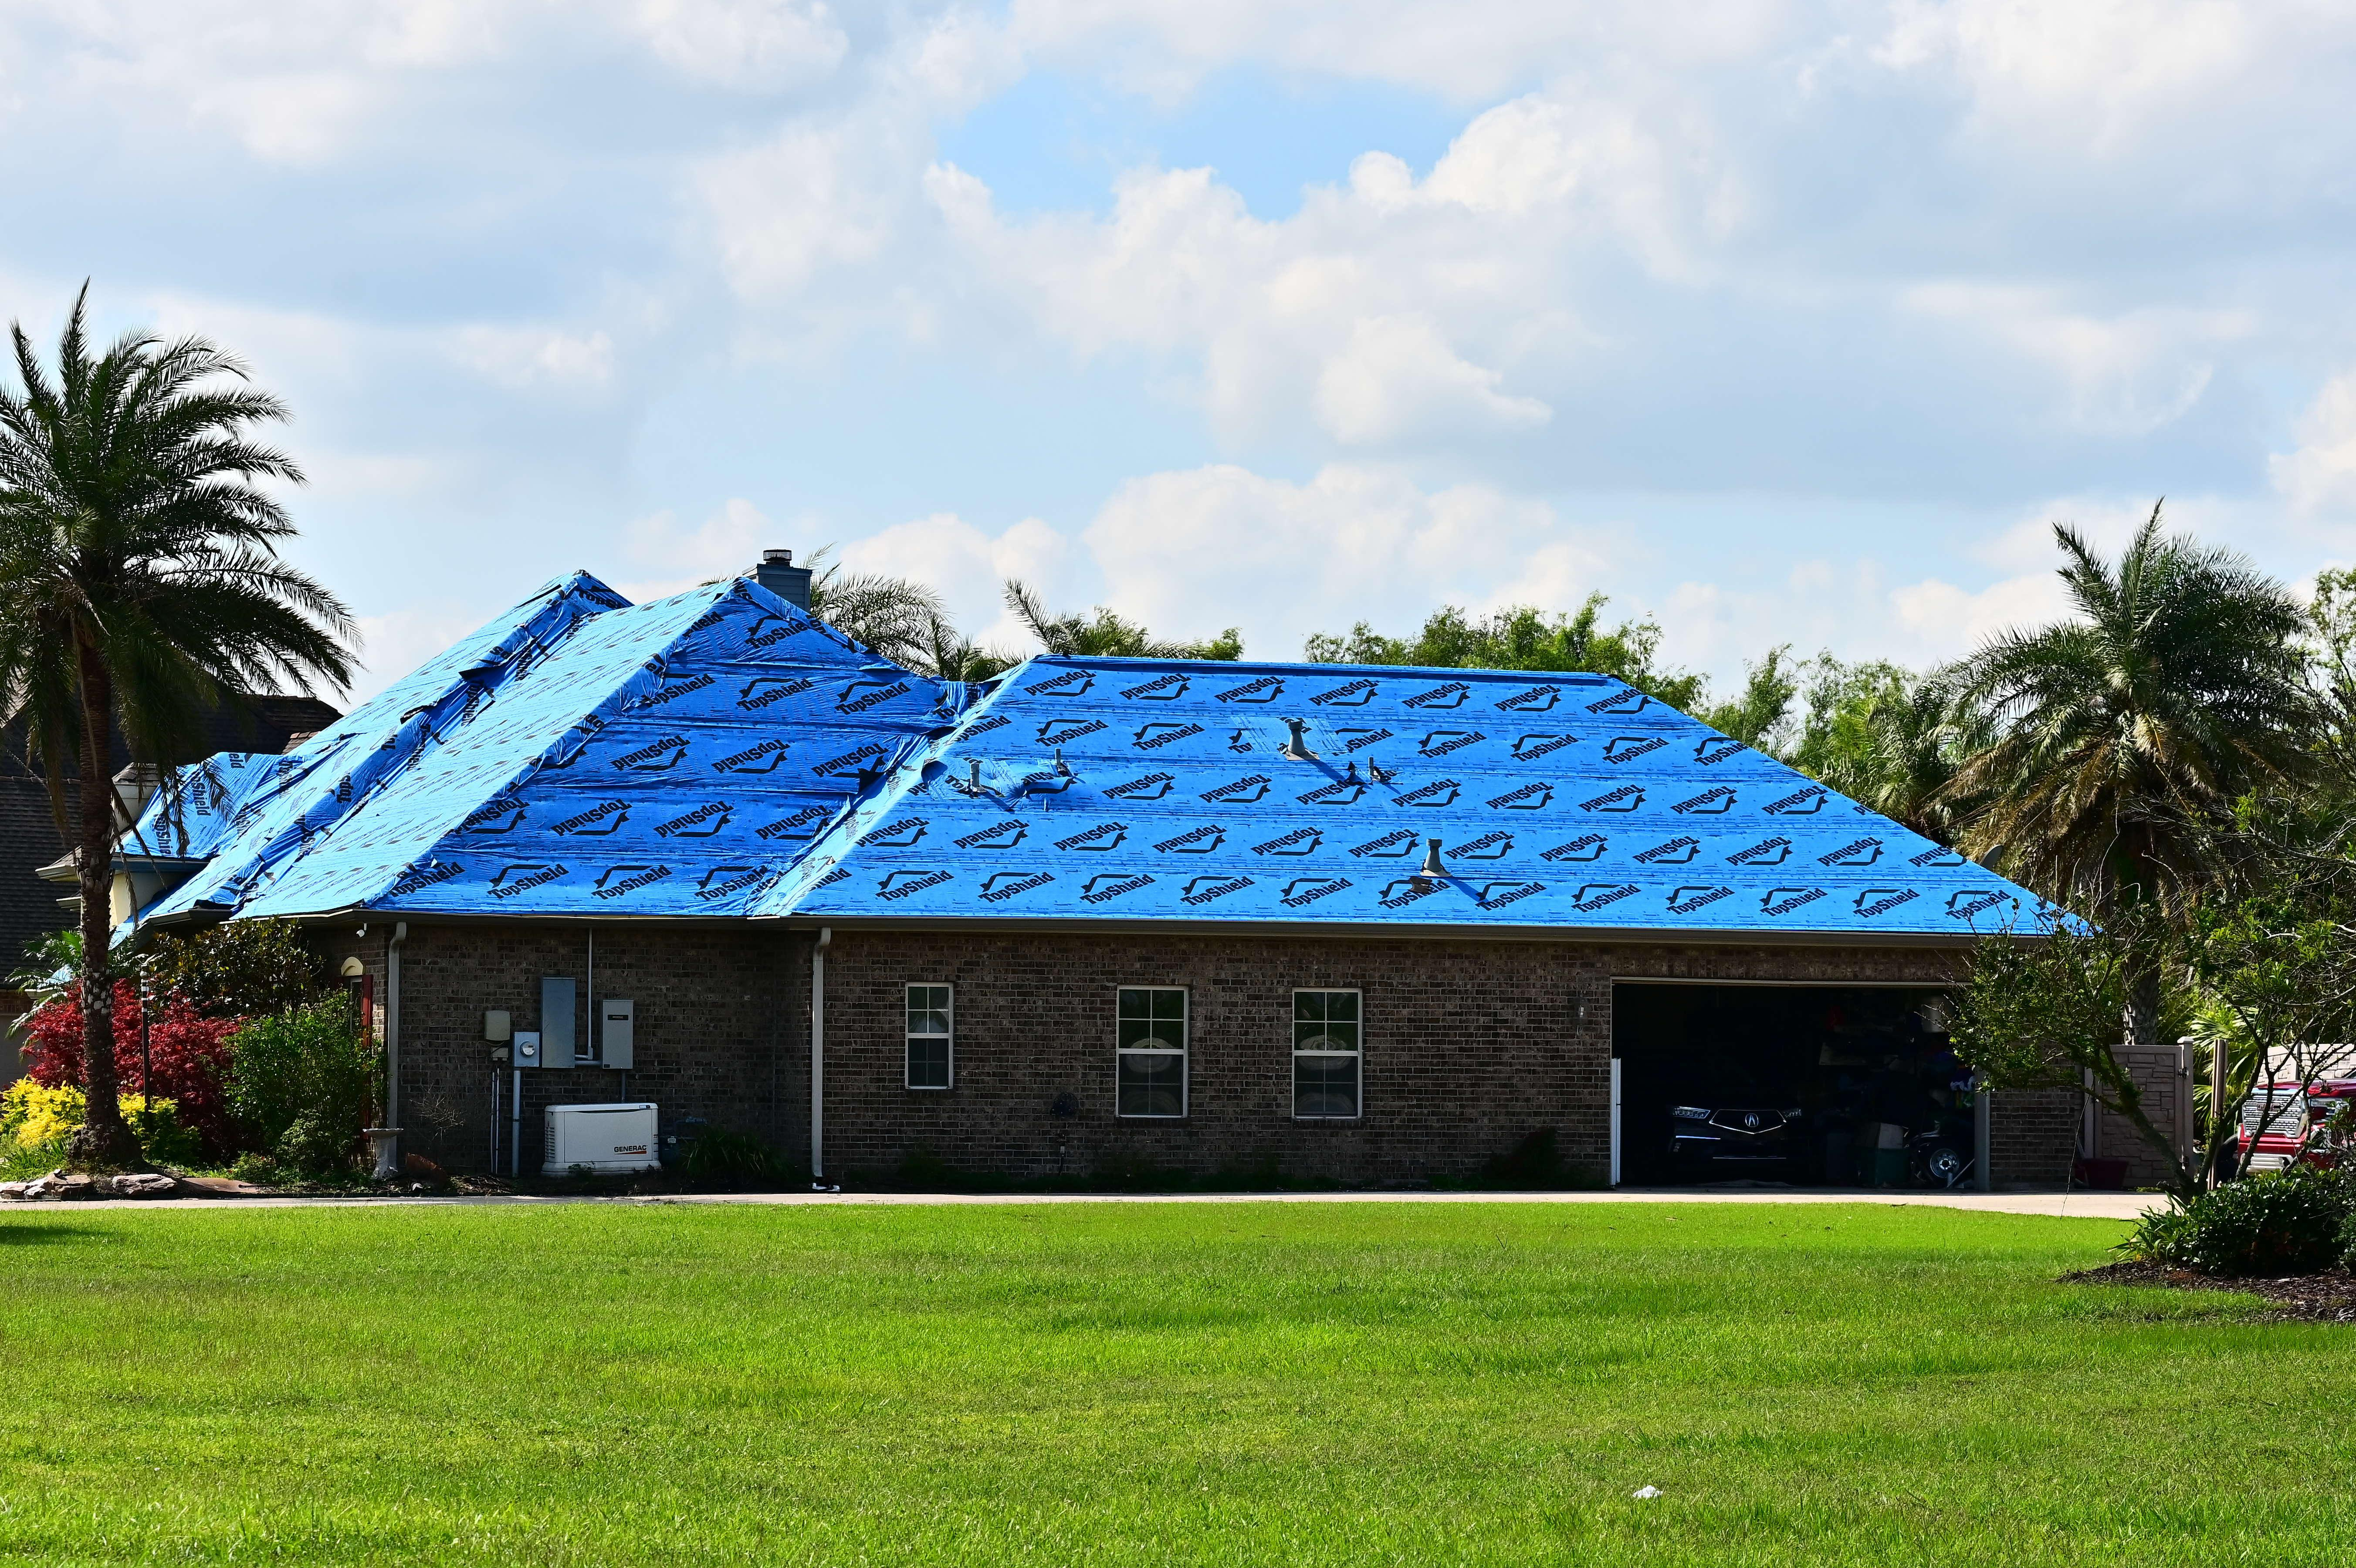minor: (63, 560, 2172, 1220)
